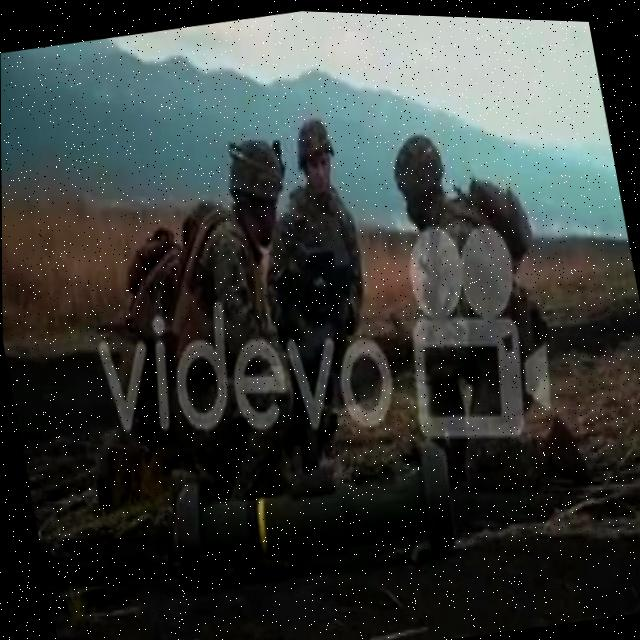rocket: (150, 386, 482, 621)
